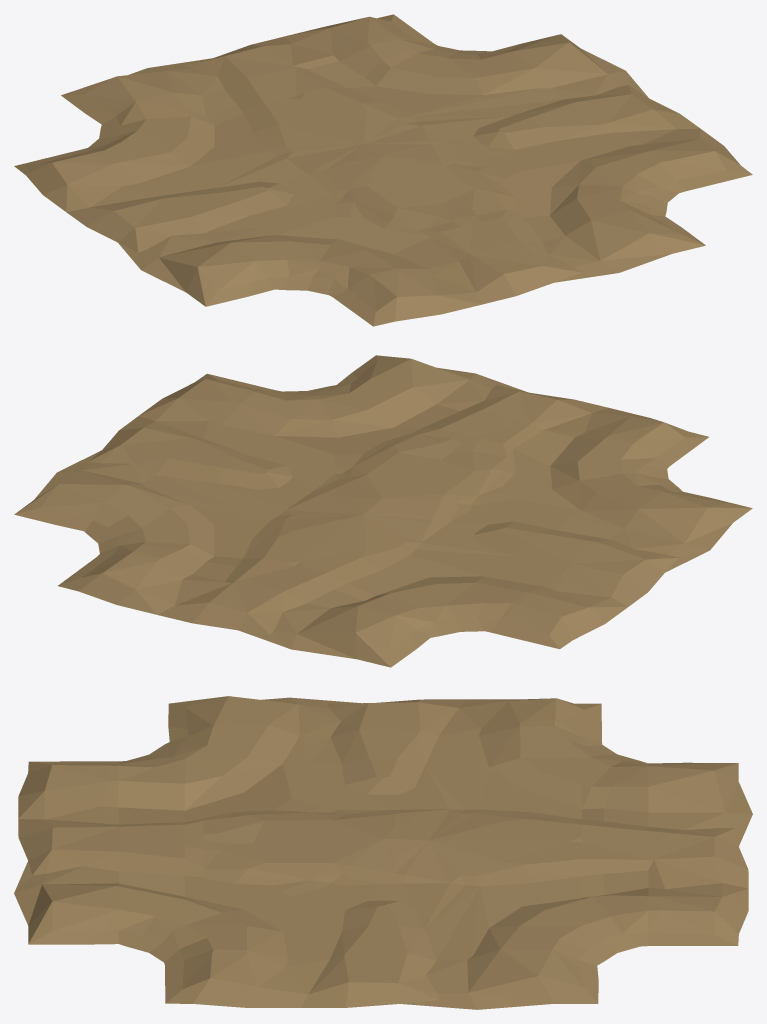
Rendered from SM_Envr_Nature_Farm_DirtRoad_Intersection_02.fbx.
3 views of the same model, one above another, from view 1: azimuth 30°, elevation 25°; view 2: azimuth 150°, elevation 25°; view 3: azimuth 270°, elevation 25° (orthographic). The views are drawn at different scales.
Visible parts, largest first — view 1: SM_Envr_Nature_Farm_DirtRoad_Intersection_02; view 2: SM_Envr_Nature_Farm_DirtRoad_Intersection_02; view 3: SM_Envr_Nature_Farm_DirtRoad_Intersection_02.
Boxes of the visible parts, x1,y1,x2,y2 form: SM_Envr_Nature_Farm_DirtRoad_Intersection_02: (14,14,752,326); SM_Envr_Nature_Farm_DirtRoad_Intersection_02: (14,355,752,667); SM_Envr_Nature_Farm_DirtRoad_Intersection_02: (14,696,752,1009).
Bounding box in the file's own units: 1117 × 29.55 × 1117.
